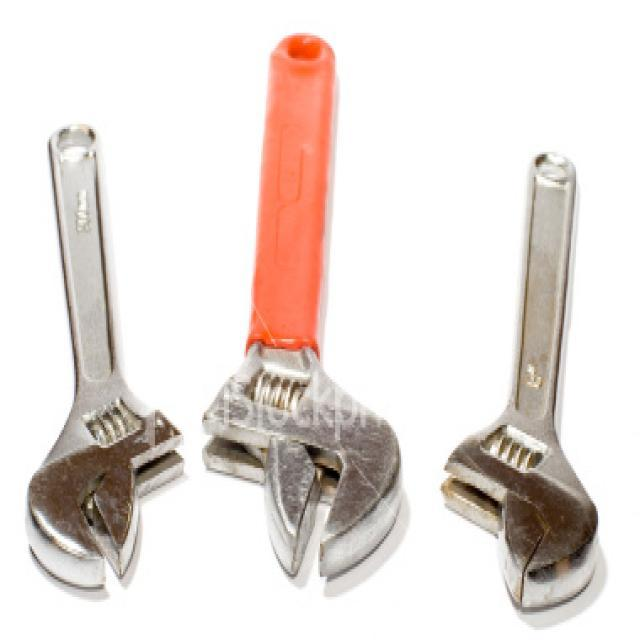wrench: (202, 29, 408, 586), (438, 144, 606, 620), (20, 120, 189, 592)
